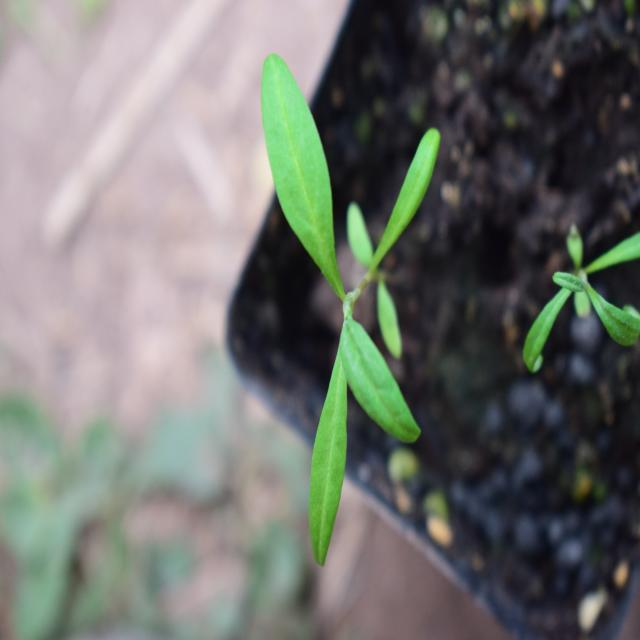white_smart_weed: (234, 54, 459, 562)
